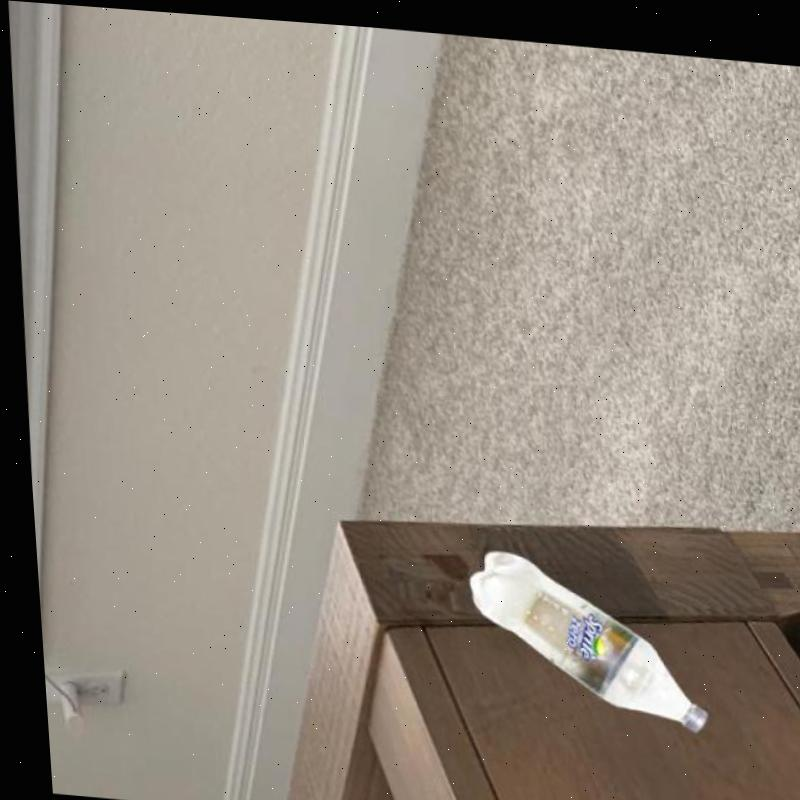botella: (446, 538, 708, 725)
